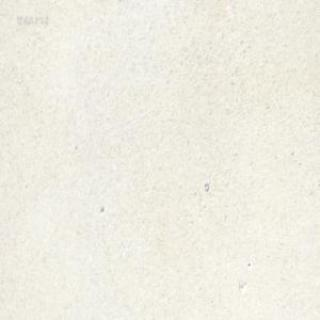Washertrack_idkeyframe: (203, 180, 208, 190)
